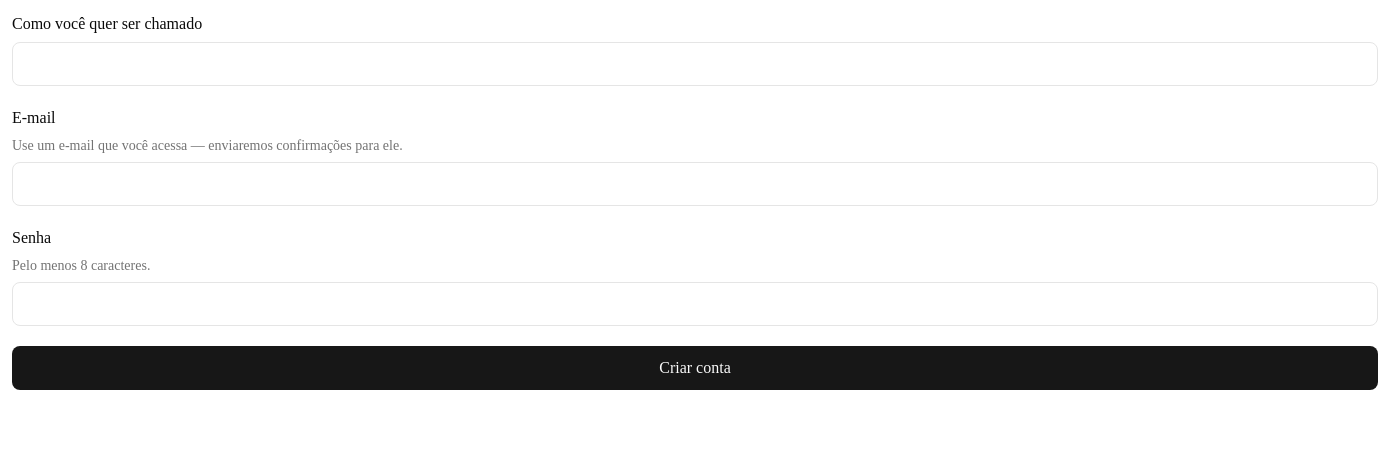
Test: formulário de criar conta › mostra o erro de cada campo no lugar certo
The width and height of the screenshot is (1390, 459).
What coordinates should you click on to do the following:
click the button "Criar conta"
I would click on:
 (695, 368)
Its box is x1=12 y1=346 x2=1378 y2=390.
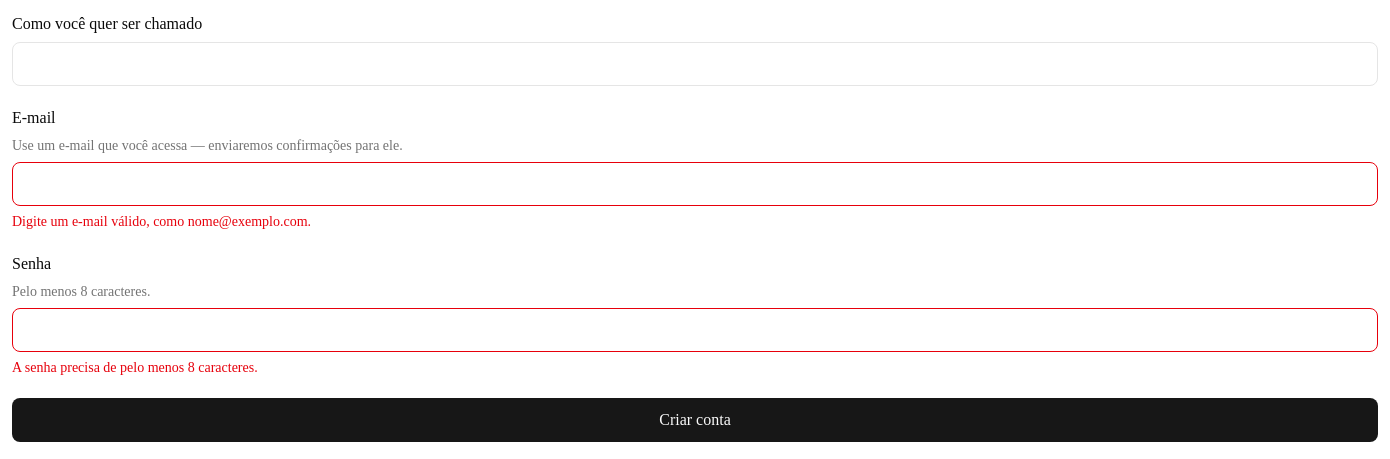
Expected: the text "Digite um e-mail válido, como nome@exemplo.com." is shown, x1=12 y1=214 x2=311 y2=229
Expected: the text "A senha precisa de pelo menos 8 caracteres." is shown, x1=12 y1=360 x2=258 y2=375
